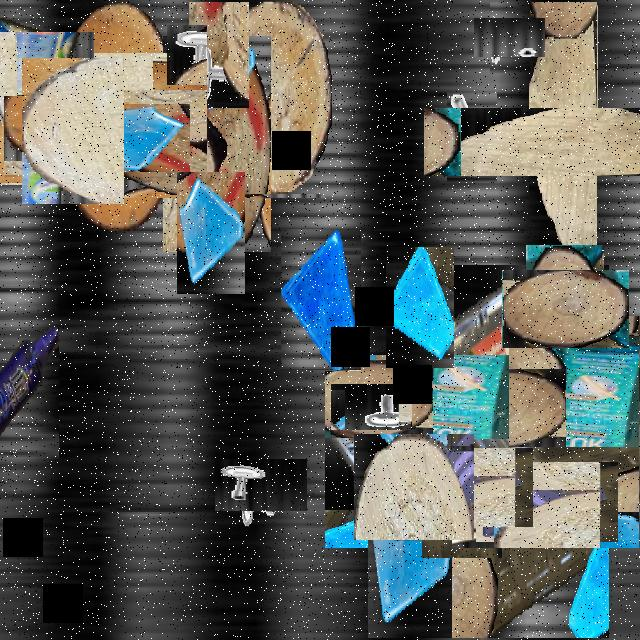glass: (368, 489, 452, 638), (407, 432, 518, 542), (281, 230, 361, 372), (177, 172, 245, 294), (386, 247, 454, 368)
metal: (178, 13, 260, 97), (225, 449, 297, 522), (437, 102, 507, 172), (339, 375, 403, 439), (482, 10, 538, 65)
plastic: (370, 309, 640, 593), (517, 324, 640, 454), (0, 327, 59, 459), (0, 16, 79, 111)
wood: (29, 28, 205, 203), (476, 54, 640, 229), (136, 63, 298, 225), (207, 2, 331, 194), (11, 69, 135, 194), (354, 434, 474, 540), (514, 258, 616, 361)
